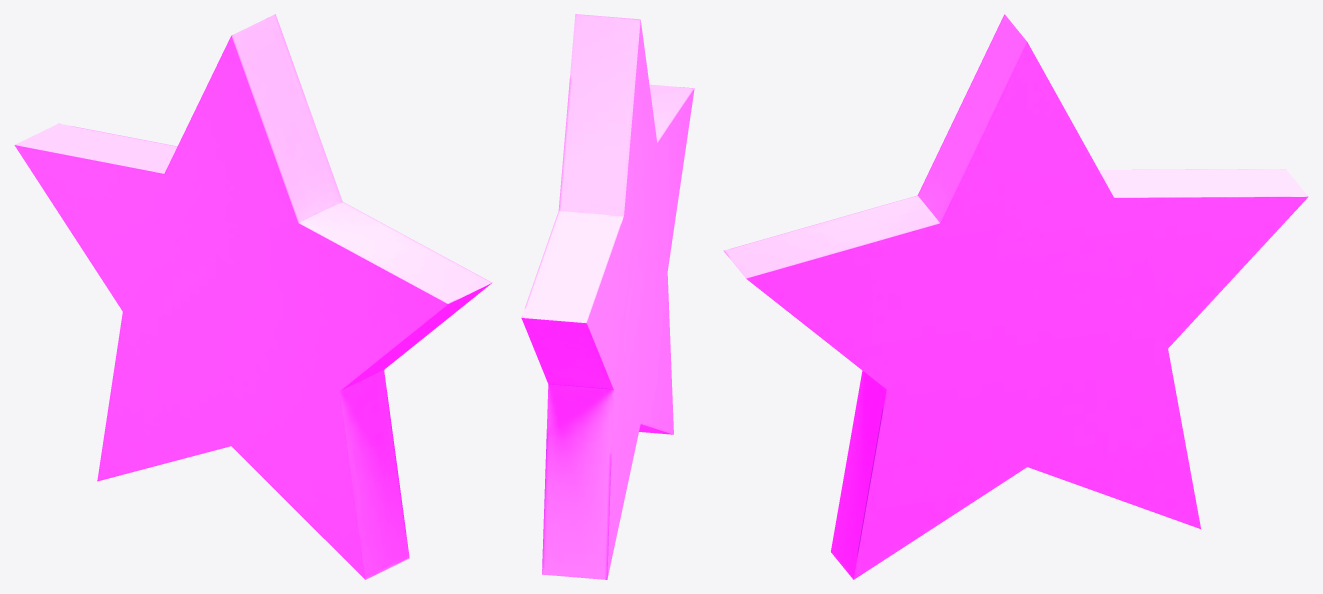
File: Star_Emission.glb
3 views of the same model, side by side, from view 1: azimuth 30°, elevation 25°; view 2: azimuth 150°, elevation 25°; view 3: azimuth 270°, elevation 25° (orthographic). The views are drawn at different scales.
Visible parts, largest first — view 1: Star_Emission; view 2: Star_Emission; view 3: Star_Emission.
Part boxes in pixels (x1,y1,x2,y2): Star_Emission: [14, 14, 492, 579]; Star_Emission: [521, 14, 694, 579]; Star_Emission: [723, 14, 1308, 579].
Size of the model in its own units: 0.4432 by 0.964 by 0.9974.
Materials: 1 (1 with a texture image).
